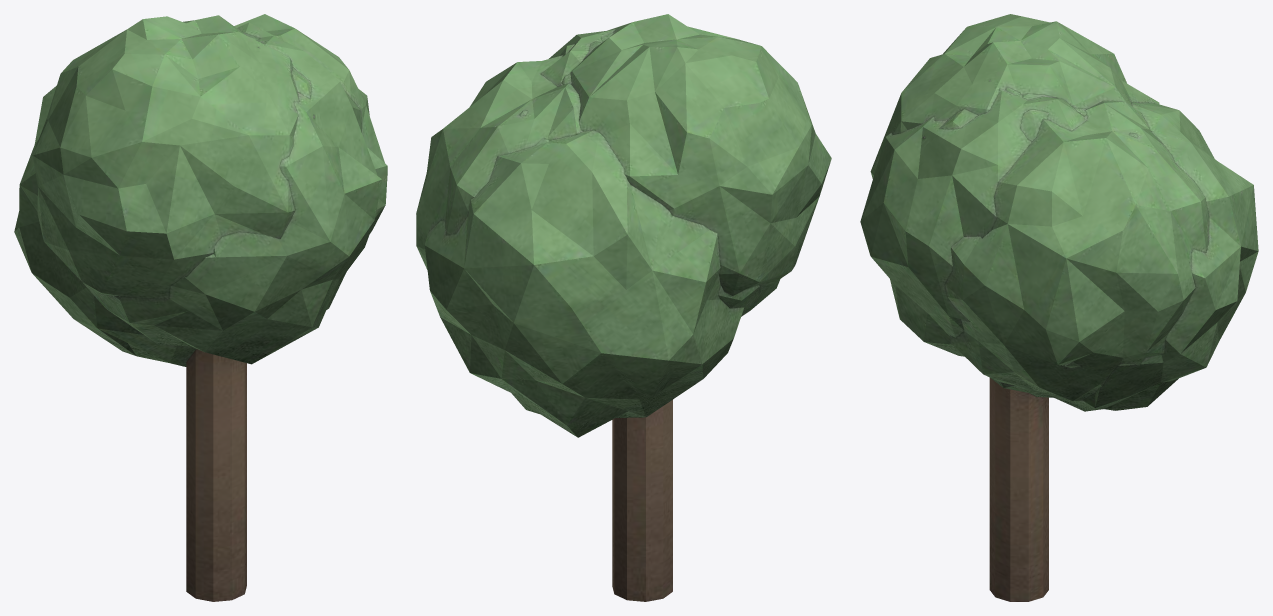
File: baum.glb
The picture shows the model from 3 angles, left to right: view 1: azimuth 30°, elevation 25°; view 2: azimuth 150°, elevation 25°; view 3: azimuth 270°, elevation 25°; orthographic projection. The views are drawn at different scales.
Parts seen in each view (by area): view 1: baum; view 2: baum; view 3: baum.
Part boxes in pixels (bbox=[...]): baum: bbox=[14, 14, 387, 601]; baum: bbox=[416, 14, 831, 601]; baum: bbox=[860, 14, 1258, 601].
Size of the model in its own units: 0.3894 by 0.6241 by 0.4144.
1 material, 1 textured.
